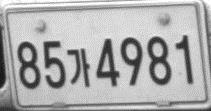1: (174, 33, 193, 85)
4: (95, 38, 120, 87)
5: (42, 40, 66, 88)
8: (146, 36, 171, 84), (16, 41, 40, 89)
9: (119, 36, 143, 86)
가: (66, 47, 91, 88)
